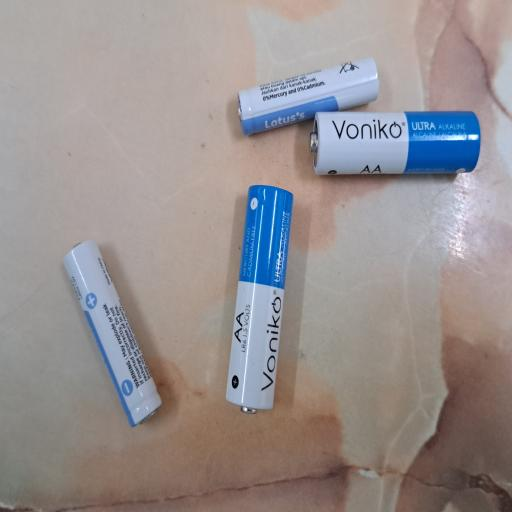battery: (66, 82, 206, 216), (73, 299, 247, 394), (282, 312, 343, 504), (252, 411, 301, 512)
